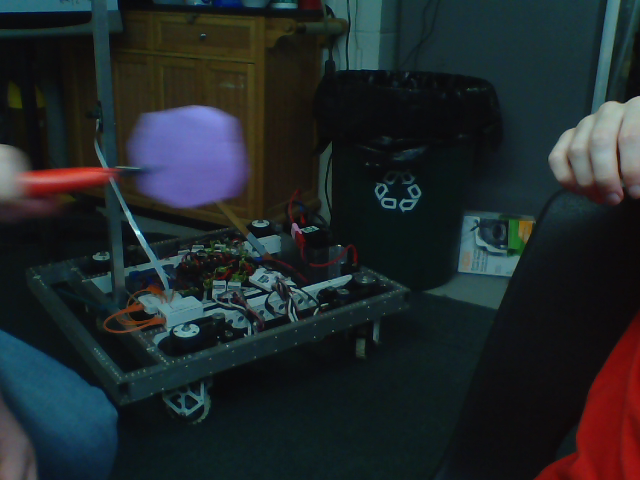ball: (130, 106, 248, 202)
